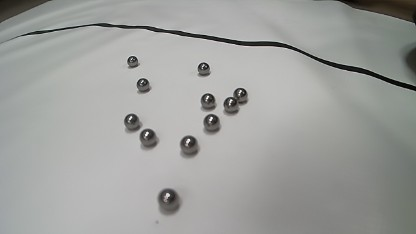ironball: (157, 188, 179, 211), (180, 135, 198, 154), (139, 128, 156, 146), (203, 114, 220, 131), (124, 113, 140, 130), (223, 96, 238, 112), (200, 93, 215, 108), (233, 87, 247, 103), (136, 78, 149, 92), (197, 62, 209, 75), (127, 55, 138, 67)
